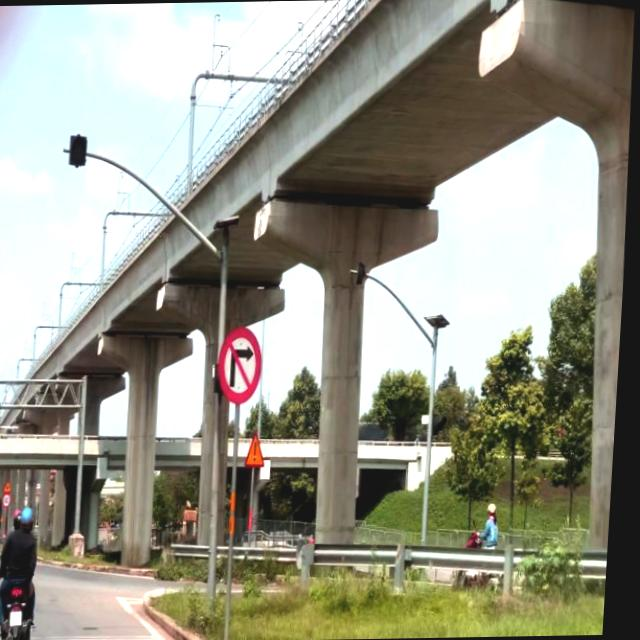Cam re phai: (219, 326, 269, 406)
Giao nhau voi duong khong uu tien ben phai: (9, 480, 18, 492)
Toc do toi da cho phep: (7, 492, 18, 508)
